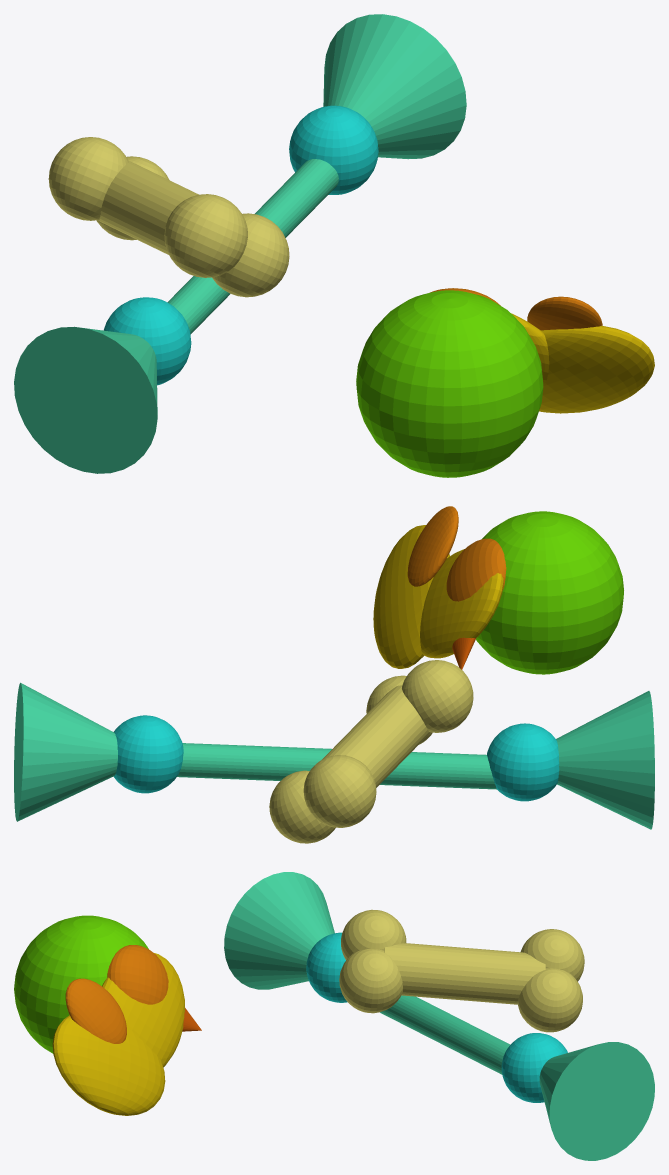
Rendered from dog.obj.
3 renders of one model, top to bottom at view 1: azimuth 30°, elevation 25°; view 2: azimuth 150°, elevation 25°; view 3: azimuth 270°, elevation 25°, orthographic. The views are drawn at different scales.
Visible parts, largest first — view 1: Sphere.005, Cone, Cone.001, Sphere.007_Sphere.013, Sphere, Sphere.006_Sphere.011, Cylinder.001, Cylinder, Sphere.003, Sphere.004_Sphere.010, Sphere.001, Sphere.010_Sphere.016 (+1 smaller); view 2: Sphere.005, Cone.001, Cone, Cylinder.001, Sphere.007_Sphere.013, Cylinder, Sphere.004_Sphere.010, Sphere.008_Sphere.014, Sphere.006_Sphere.011, Sphere.003, Sphere, Sphere.002 (+3 smaller); view 3: Cone.001, Cone, Sphere.005, Sphere.007_Sphere.013, Cylinder, Cylinder.001, Sphere.008_Sphere.014, Sphere.002, Sphere.001, Sphere.006_Sphere.011, Sphere.010_Sphere.016, Sphere.009_Sphere.015 (+3 smaller).
Boxes of the visible parts, <box> form: Sphere.005: <box>356,290,543,477</box>; Cone: <box>14,326,157,473</box>; Cone.001: <box>323,14,466,159</box>; Sphere.007_Sphere.013: <box>539,325,654,413</box>; Sphere: <box>164,194,247,277</box>; Sphere.006_Sphere.011: <box>289,105,378,194</box>; Cylinder.001: <box>167,159,338,334</box>; Cylinder: <box>98,161,198,254</box>; Sphere.003: <box>48,137,128,220</box>; Sphere.004_Sphere.010: <box>103,297,191,385</box>; Sphere.001: <box>212,213,289,297</box>; Sphere.010_Sphere.016: <box>527,296,602,330</box>; Sphere.005: <box>476,511,623,674</box>; Cone.001: <box>14,682,117,821</box>; Cone: <box>556,691,654,829</box>; Cylinder.001: <box>177,743,496,789</box>; Sphere.007_Sphere.013: <box>373,525,449,668</box>; Cylinder: <box>322,685,430,787</box>; Sphere.004_Sphere.010: <box>487,723,559,801</box>; Sphere.008_Sphere.014: <box>420,549,503,658</box>; Sphere.006_Sphere.011: <box>113,715,183,793</box>; Sphere.003: <box>303,755,376,827</box>; Sphere: <box>402,660,473,732</box>; Sphere.002: <box>269,770,335,843</box>; Cone.001: <box>539,1042,654,1160</box>; Cone: <box>224,872,334,989</box>; Sphere.005: <box>14,915,148,1053</box>; Sphere.007_Sphere.013: <box>52,1015,165,1115</box>; Cylinder: <box>384,943,545,1004</box>; Cylinder.001: <box>380,995,509,1074</box>; Sphere.008_Sphere.014: <box>102,953,184,1067</box>; Sphere.002: <box>517,968,582,1032</box>; Sphere.001: <box>339,949,402,1013</box>; Sphere.006_Sphere.011: <box>501,1033,567,1102</box>; Sphere.010_Sphere.016: <box>65,978,126,1043</box>; Sphere.009_Sphere.015: <box>107,945,168,1004</box>.
Bounding box in the file's own units: 11.19 × 3.64 × 13.34.
